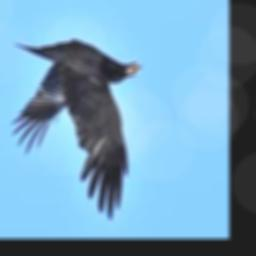Crow: (13, 40, 141, 220)
